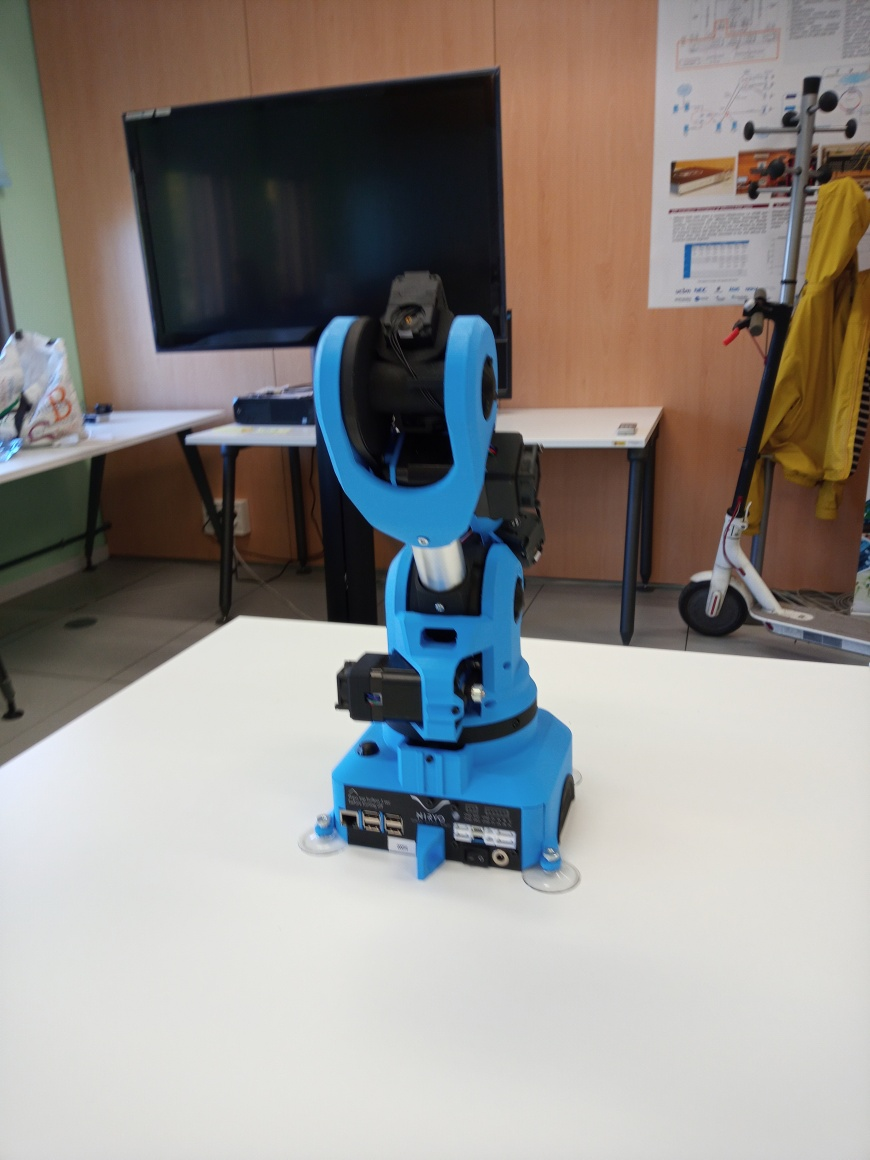robot: (298, 270, 589, 895)
